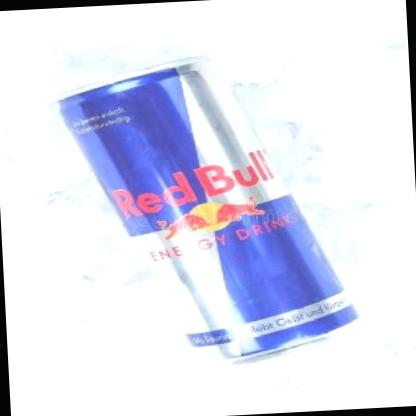alumunium_can: (44, 52, 359, 371)
